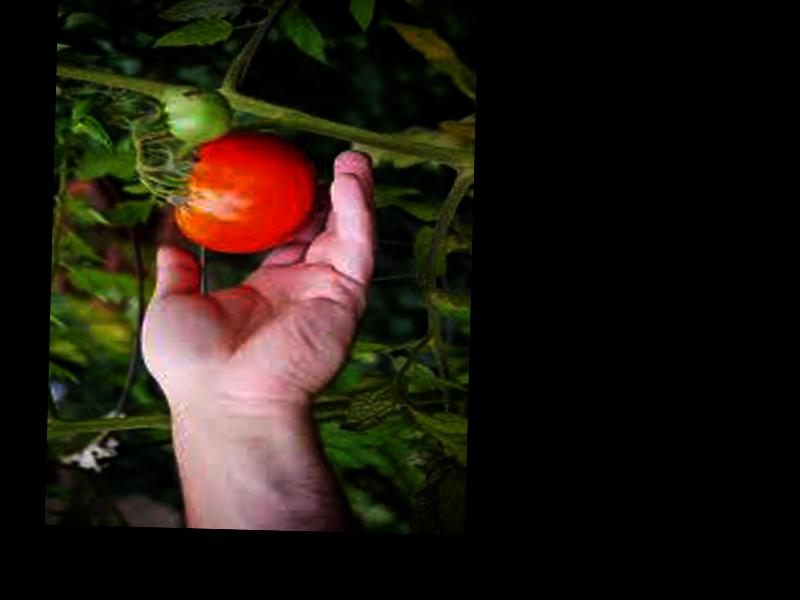Tomato: (169, 127, 317, 256)
